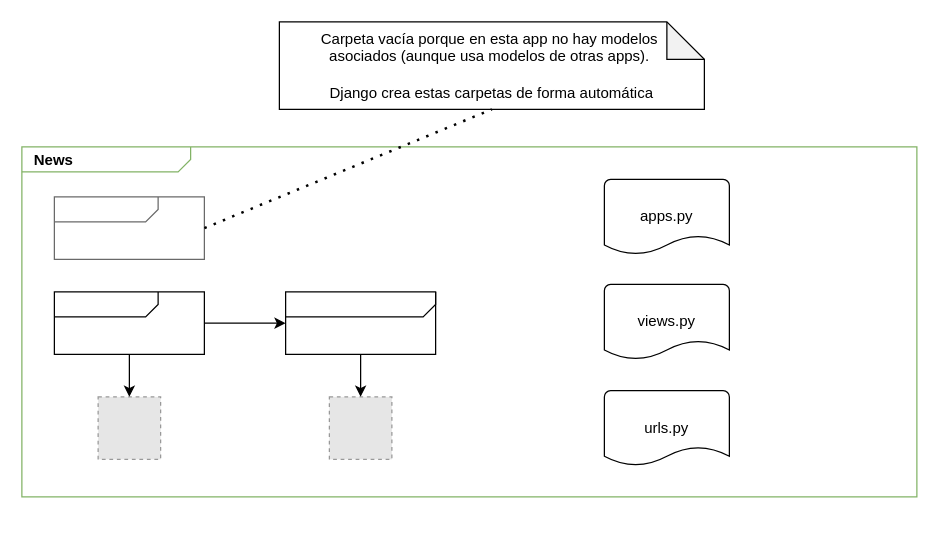
This 939x538 diagram has some shape labels left out. Grey dashed boxes stand in for pictures. Here are the shapes that lost their labels. From the top down, the box of each, then its label:
(53, 196, 204, 259): migrations
(53, 291, 204, 354): templates
(284, 291, 436, 354): includes
